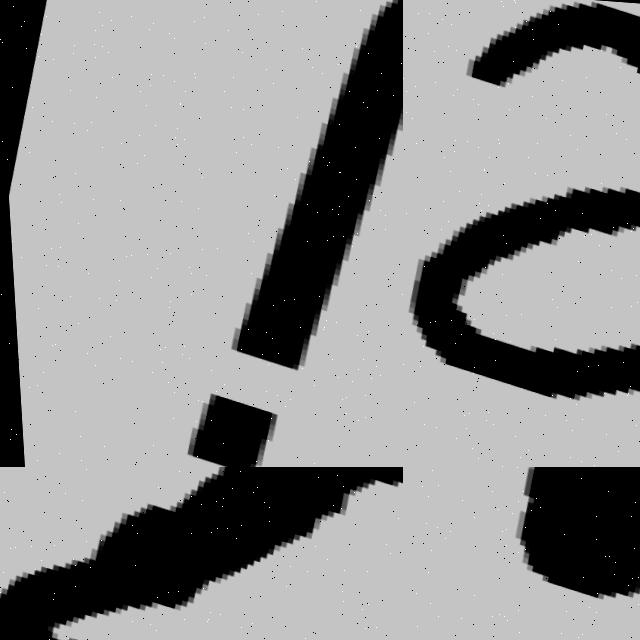J: (147, 0, 403, 467)
K: (403, 0, 640, 467)
V: (403, 467, 640, 640)
Z: (0, 467, 403, 640)
